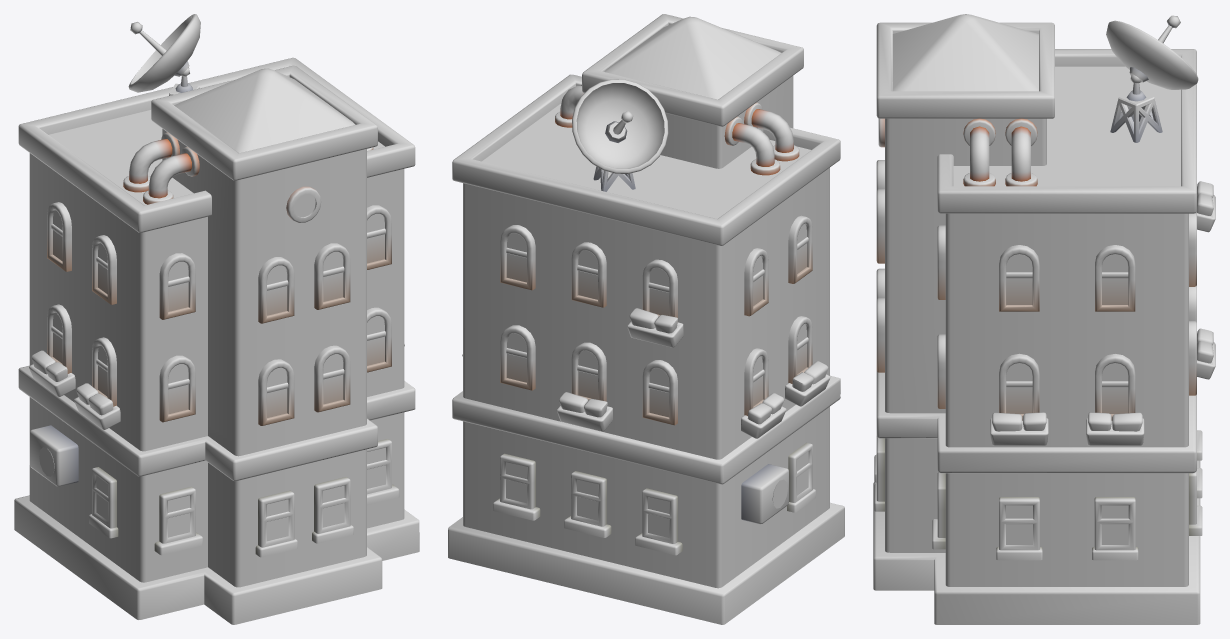
File: NF_Bld_Apartment 25.fbx
The picture shows the model from 3 angles, left to right: view 1: azimuth 30°, elevation 25°; view 2: azimuth 150°, elevation 25°; view 3: azimuth 270°, elevation 25°; orthographic projection. The views are drawn at different scales.
Parts seen in each view (by area): view 1: Apart_25; view 2: Apart_25; view 3: Apart_25.
Boxes of the visible parts, box(x1,y1,x2,y2) form: Apart_25: box(14, 14, 419, 624); Apart_25: box(448, 14, 844, 624); Apart_25: box(873, 14, 1215, 624).
Size of the model in its own units: 9.29 by 14.62 by 8.44.
